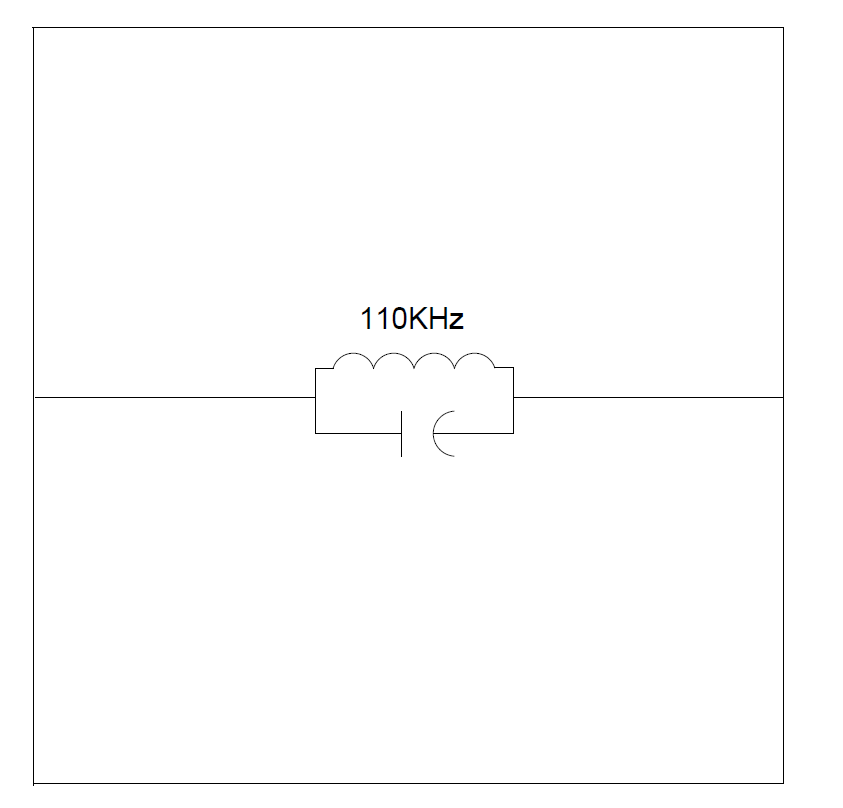WAVETRAP: (289, 294, 549, 470)
